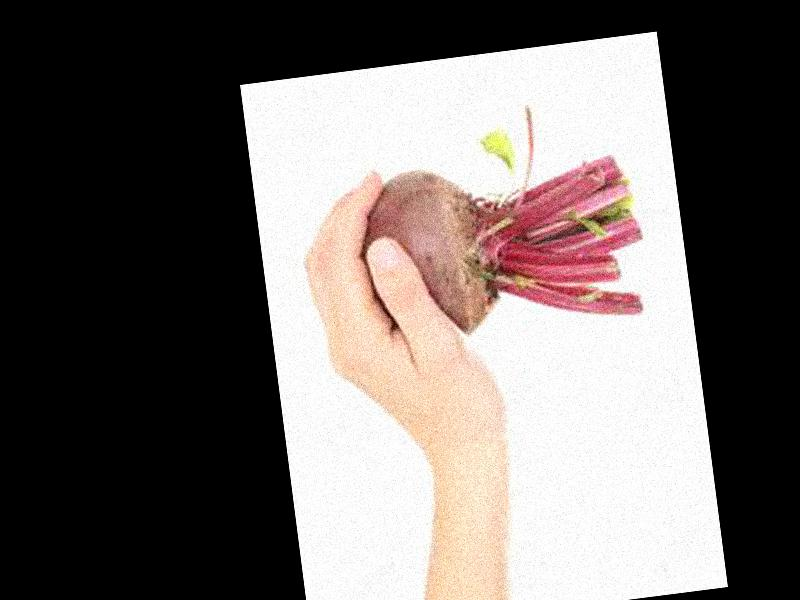Beet: (344, 92, 651, 346)
